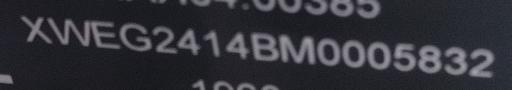letter: (276, 29, 318, 65), (46, 14, 90, 45), (15, 12, 51, 45), (118, 19, 150, 51), (223, 25, 249, 63), (466, 44, 494, 79), (442, 40, 468, 77), (90, 16, 120, 48), (148, 21, 178, 53), (249, 28, 279, 60), (416, 40, 444, 74), (340, 35, 368, 68), (392, 39, 418, 72), (176, 25, 204, 55), (318, 32, 340, 68), (368, 39, 392, 71), (202, 25, 224, 57)
